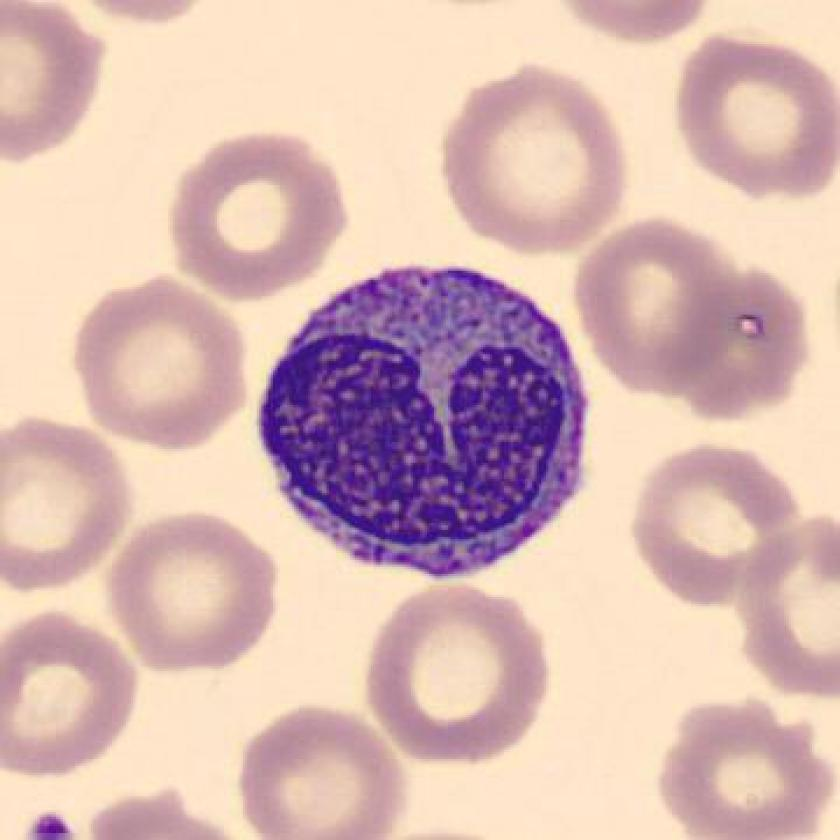monocyte: (237, 244, 619, 603)
